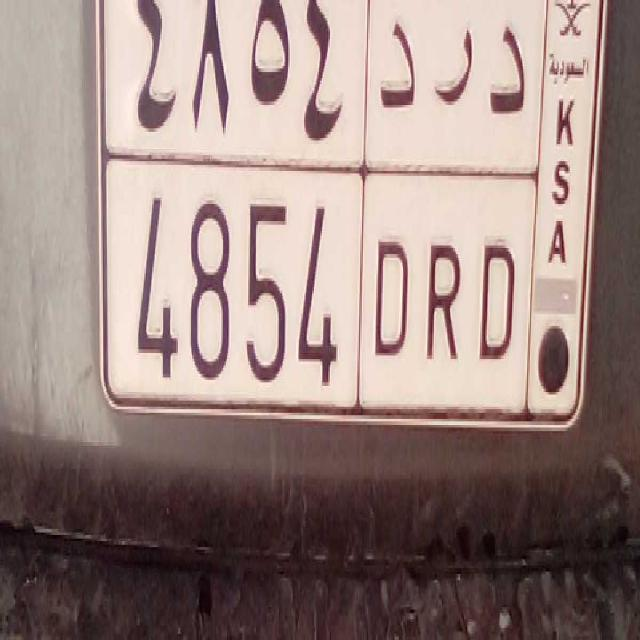license_plate: (122, 144, 524, 438)
